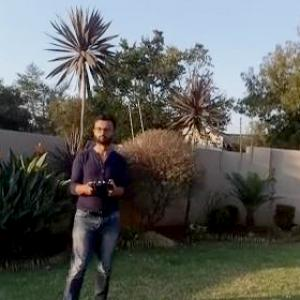follow: (60, 110, 126, 299)
